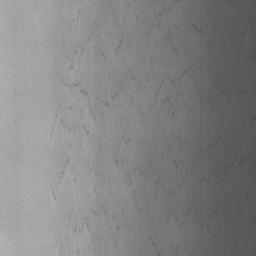Silk spot: (48, 0, 256, 256)
